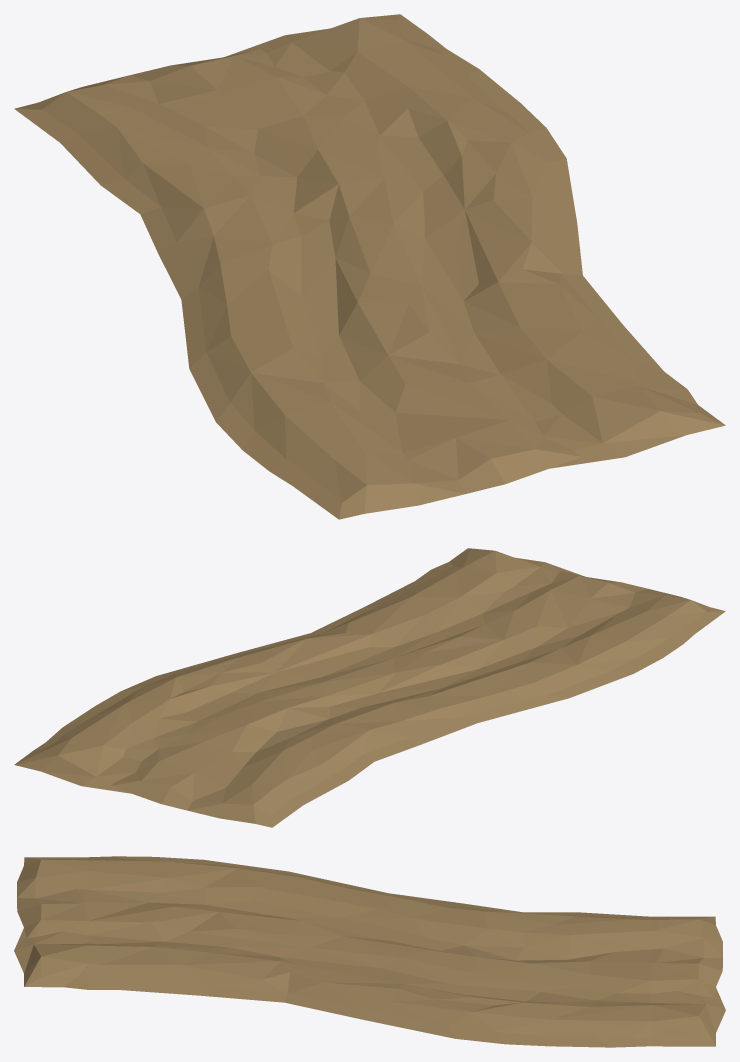
The model's file is SM_Envr_Nature_Farm_DirtRoad_02.fbx.
The picture shows the model from 3 angles, top to bottom: view 1: azimuth 30°, elevation 25°; view 2: azimuth 150°, elevation 25°; view 3: azimuth 270°, elevation 25°; orthographic projection. The views are drawn at different scales.
Visible parts, largest first — view 1: SM_Envr_Nature_Farm_DirtRoad_02; view 2: SM_Envr_Nature_Farm_DirtRoad_02; view 3: SM_Envr_Nature_Farm_DirtRoad_02.
Part boxes in pixels (x1,y1,x2,y2): SM_Envr_Nature_Farm_DirtRoad_02: (14,14,725,519); SM_Envr_Nature_Farm_DirtRoad_02: (14,548,725,827); SM_Envr_Nature_Farm_DirtRoad_02: (14,856,725,1047).
Size of the model in its own units: 964 by 30.23 by 1517.
